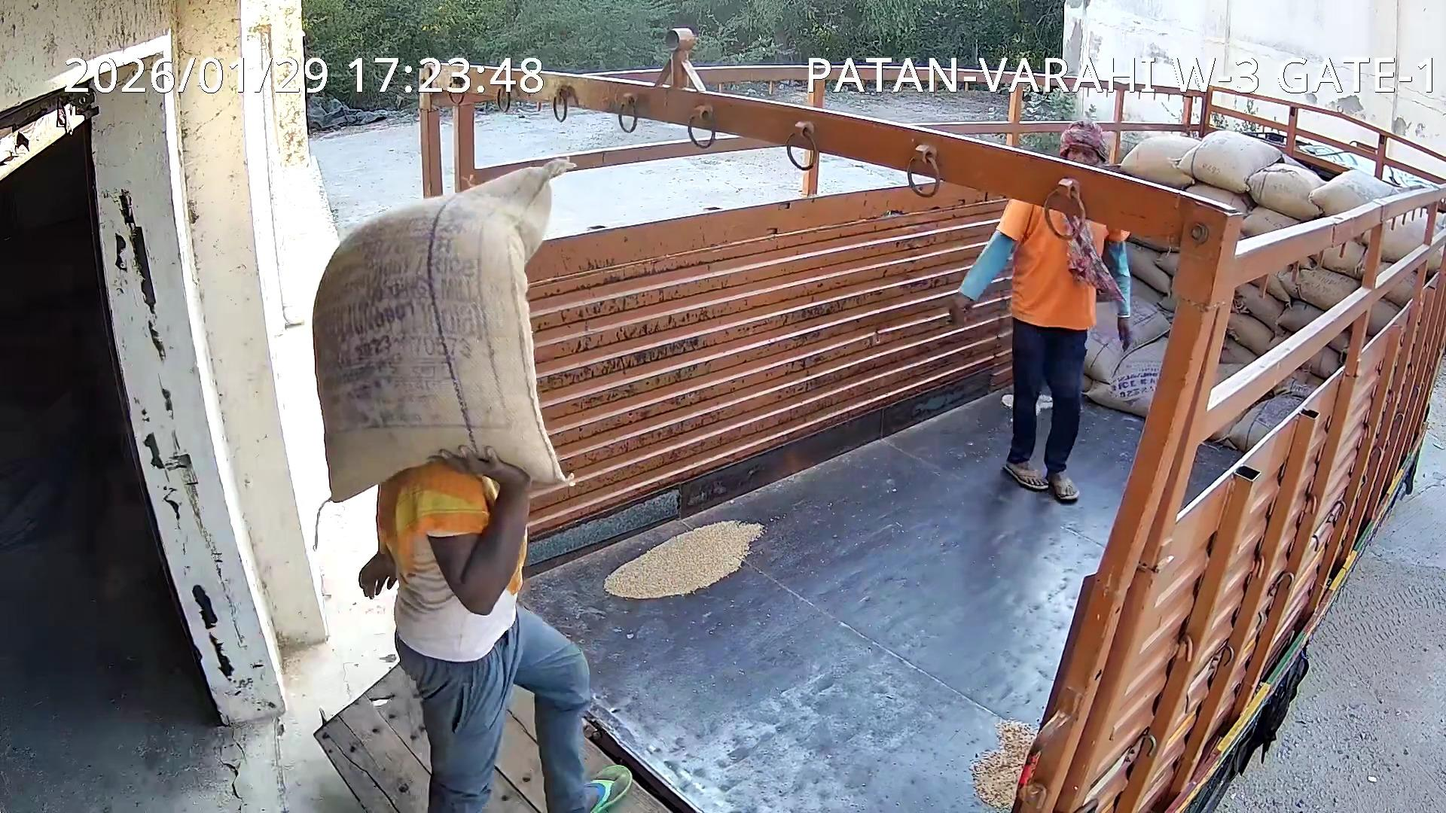Sack: (312, 159, 572, 498)
